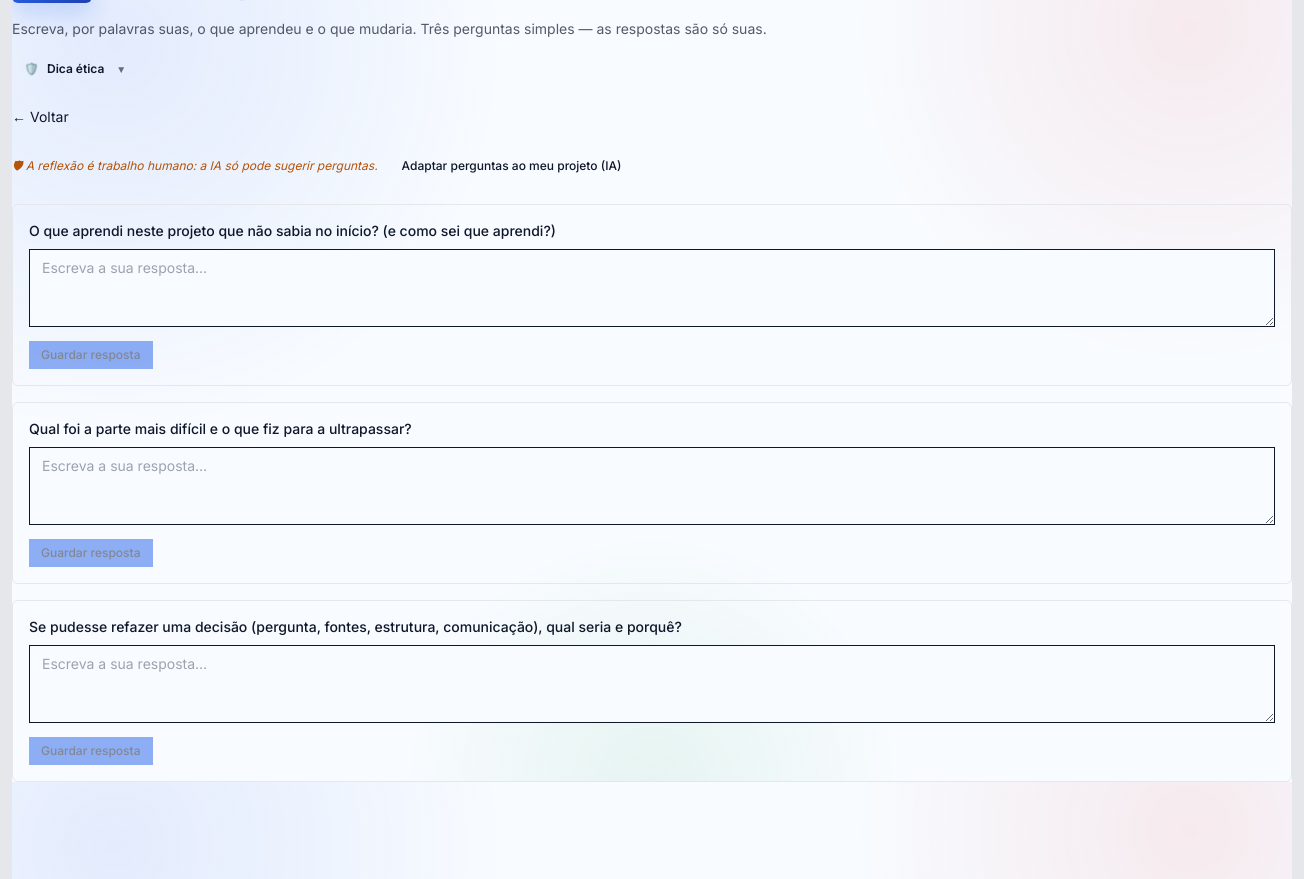
Test: Reflective journal › works with default questions and no AI
Type "Aprendi muito" into the 1st text box with placeholder "Escreva a sua resposta…". click: (652,288)
box: [29,249,1275,327]
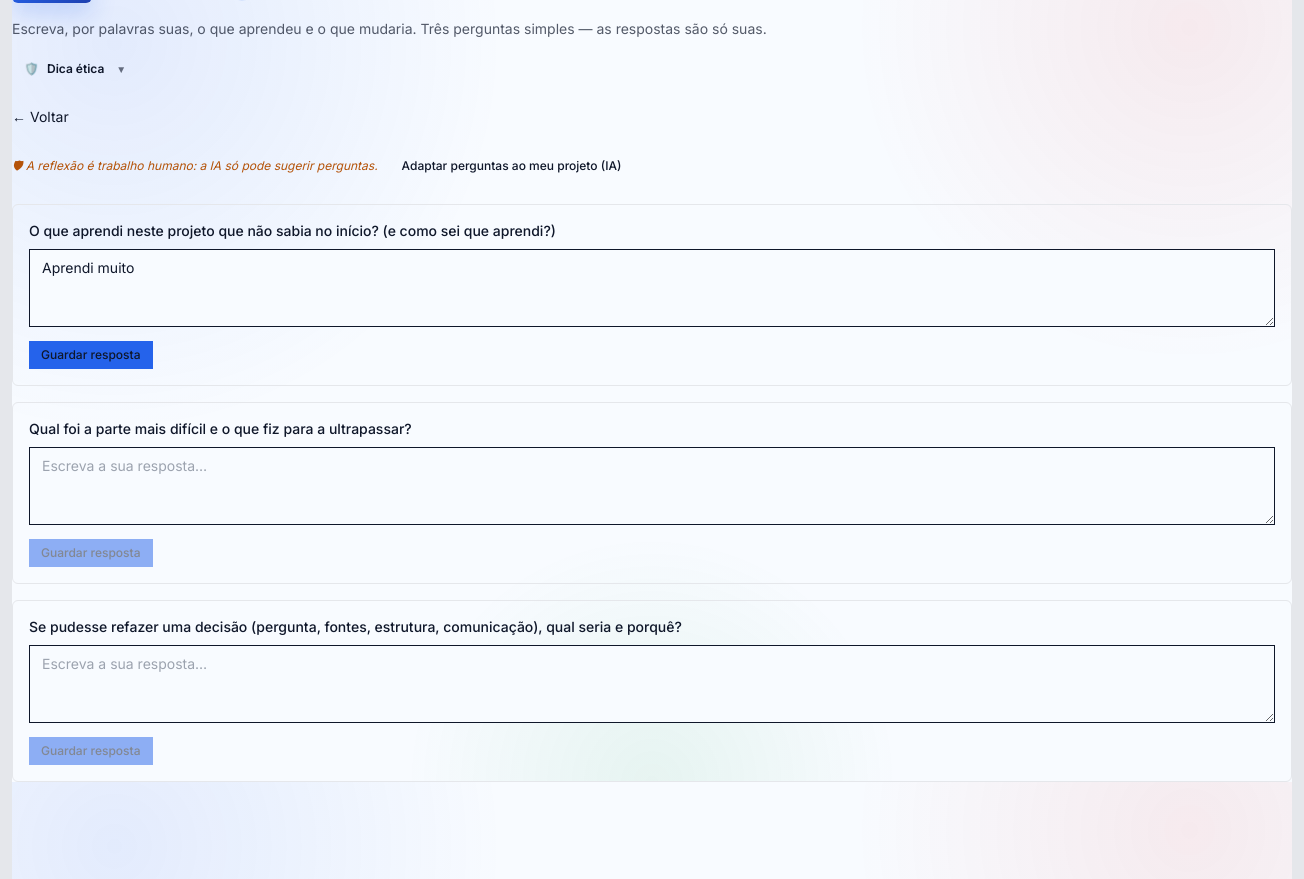
Click the 1st button "Guardar resposta". click: (91,355)
box: [29,341,152,369]
(page scrolled)
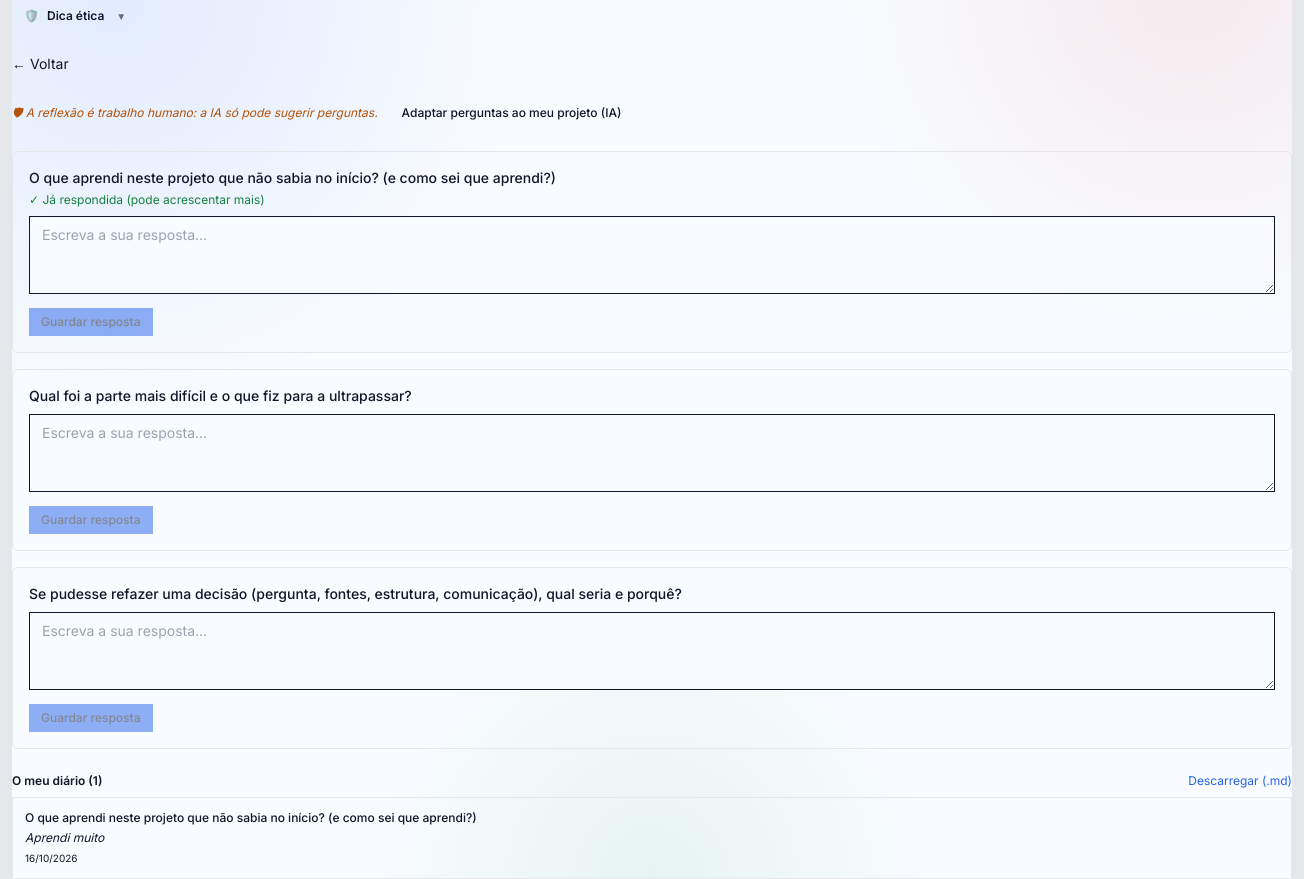
Result: the text "Aprendi muito" is shown at [25,830,104,845]
